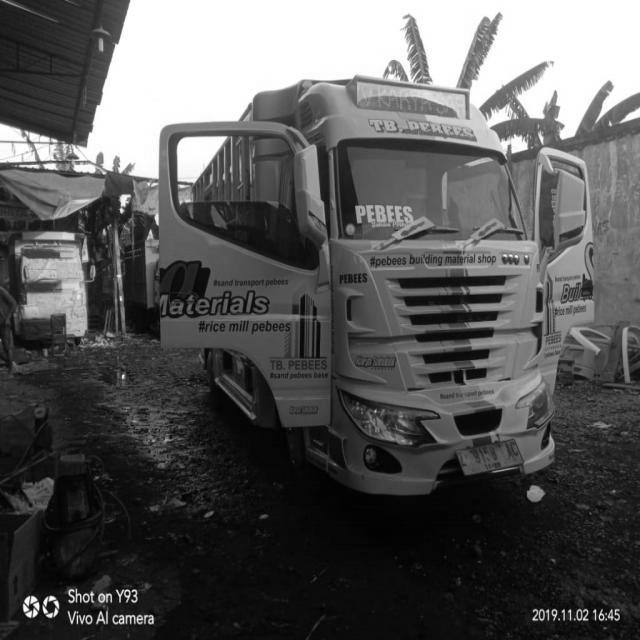truck: (161, 77, 595, 508)
